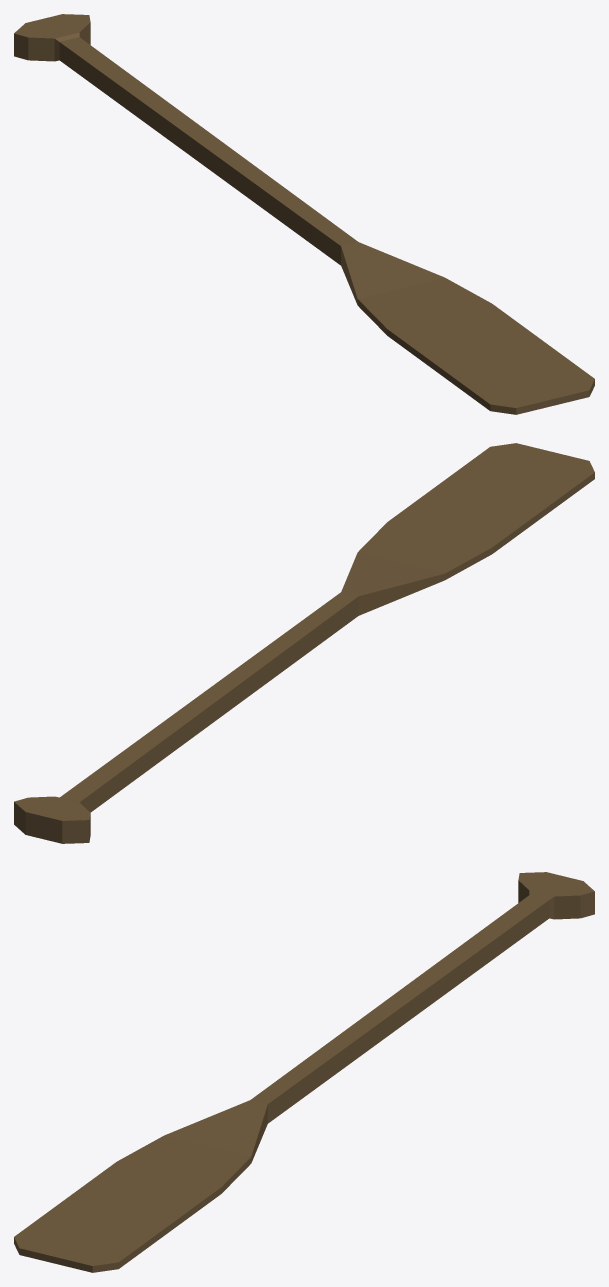
Rendered from island_oar.fbx.
The picture shows the model from 3 angles, top to bottom: view 1: azimuth 30°, elevation 25°; view 2: azimuth 150°, elevation 25°; view 3: azimuth 330°, elevation 25°; orthographic projection.
Visible parts, largest first — view 1: Cube.023; view 2: Cube.023; view 3: Cube.023.
Part boxes in pixels (<box>): Cube.023: <box>14,14,594,414</box>; Cube.023: <box>14,443,594,843</box>; Cube.023: <box>14,872,594,1272</box>.
Bounding box in the file's own units: 0.2352 × 0.0492 × 1.98.
